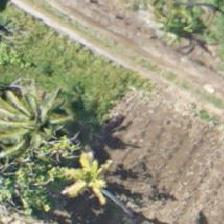coconut_tree: (38, 123, 128, 213)
